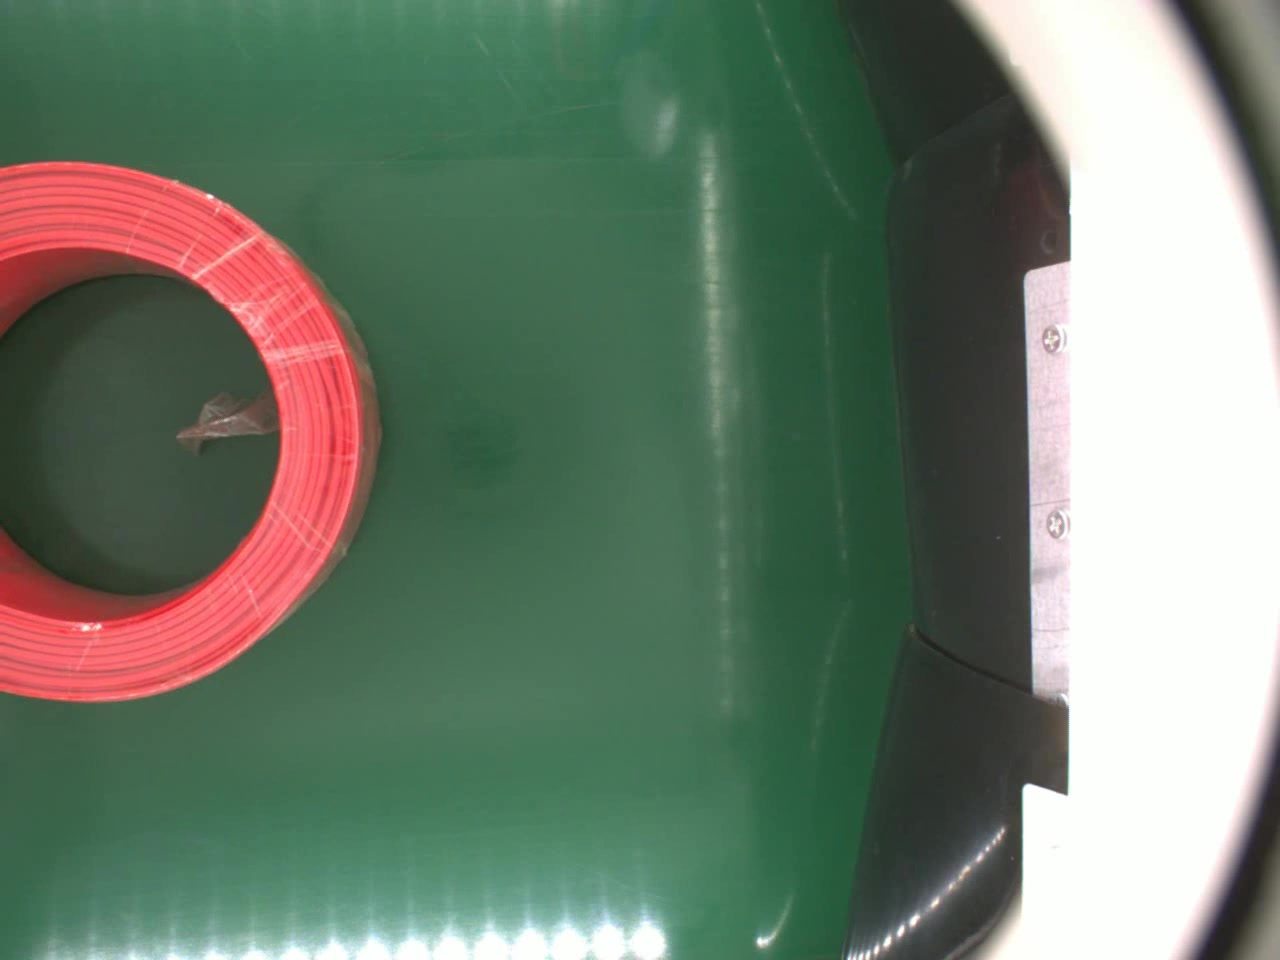red: (0, 158, 382, 700)
